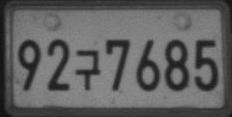2: (46, 38, 71, 91)
5: (193, 39, 219, 92)
6: (135, 38, 160, 92)
7: (104, 38, 130, 91)
8: (163, 38, 190, 91)
9: (17, 38, 41, 91)
구: (74, 48, 101, 90)
